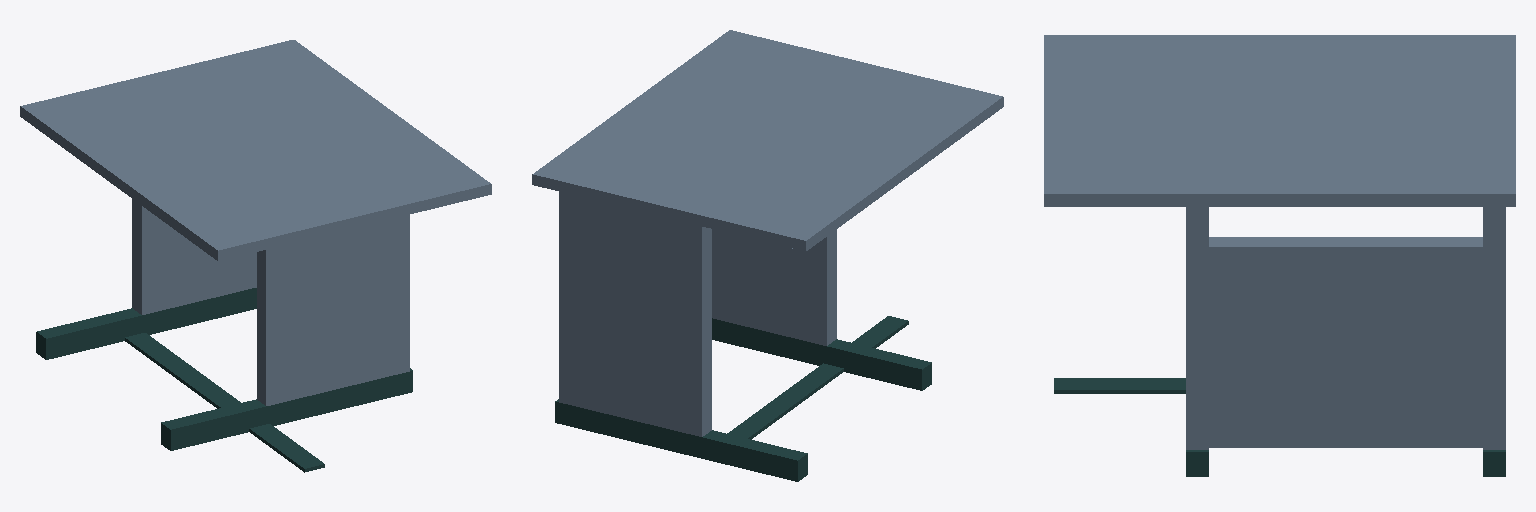
The robot description file, URDF, robot "uchida-desk":
<?xml version="1.0"?>
<robot name="uchida-desk"
       xmlns:xi="http://www.w3.org/2001/XInclude"
       xmlns:gazebo="http://playerstage.sourceforge.net/gazebo/xmlschema/#gz"
       xmlns:model="http://playerstage.sourceforge.net/gazebo/xmlschema/#model"
       xmlns:sensor="http://playerstage.sourceforge.net/gazebo/xmlschema/#sensor"
       xmlns:body="http://playerstage.sourceforge.net/gazebo/xmlschema/#body"
       xmlns:geom="http://playerstage.sourceforge.net/gazebo/xmlschema/#geom"
       xmlns:joint="http://playerstage.sourceforge.net/gazebo/xmlschema/#joint"
       xmlns:interface="http://playerstage.sourceforge.net/gazebo/xmlschema/#interface"
       xmlns:rendering="http://playerstage.sourceforge.net/gazebo/xmlschema/#rendering"
       xmlns:renderable="http://playerstage.sourceforge.net/gazebo/xmlschema/#renderable"
       xmlns:controller="http://playerstage.sourceforge.net/gazebo/xmlschema/#controller"
       xmlns:physics="http://playerstage.sourceforge.net/gazebo/xmlschema/#physics">
  <gazebo>
    <static>false</static>
  </gazebo>
  <link name="nil_link">
    <visual>
      <origin xyz="0 0 0" rpy="0 -0 0"/>
      <geometry>
        <mesh filename="model://uchida-desk/meshes/nil_link_mesh.dae" scale="1 1 1" />
      </geometry>
    </visual>
    <collision>
      <origin xyz="0 0 0" rpy="0 -0 0"/>
      <geometry>
        <mesh filename="model://uchida-desk/meshes/nil_link_mesh.dae" scale="1 1 1" />
      </geometry>
    </collision>
    <inertial>
      <mass value="0.001" />
      <origin xyz="0 0 0" rpy="0 -0 0"/>
      <inertia ixx="1e-09" ixy="0" ixz="0" iyy="1e-09" iyz="0" izz="1e-09"/>
    </inertial>
  </link>
  <gazebo reference="nil_link">
    <mu1>0.9</mu1>
    <mu2>0.9</mu2>
  </gazebo>
</robot>

--- What the picture shows (computed from the rendered views, not written in the file) ---
The picture shows the robot from 3 angles, left to right: view 1: azimuth 30°, elevation 25°; view 2: azimuth 150°, elevation 25°; view 3: azimuth 270°, elevation 25°; orthographic projection.
Model uchida-desk with 1 links and 0 joints (none), rooted at nil_link, posed every joint at zero.
Visible links, largest first — view 1: nil_link; view 2: nil_link; view 3: nil_link.
Boxes of the visible links, box(x1,y1,x2,y2) form: nil_link: box(20, 40, 491, 472); nil_link: box(532, 30, 1003, 481); nil_link: box(1044, 35, 1515, 476).
Bounding box of the posed robot: 0.8 × 1 × 0.69 m (x, y, z).
1 mesh visuals loaded from 1 distinct referenced files (1 Collada DAE).
